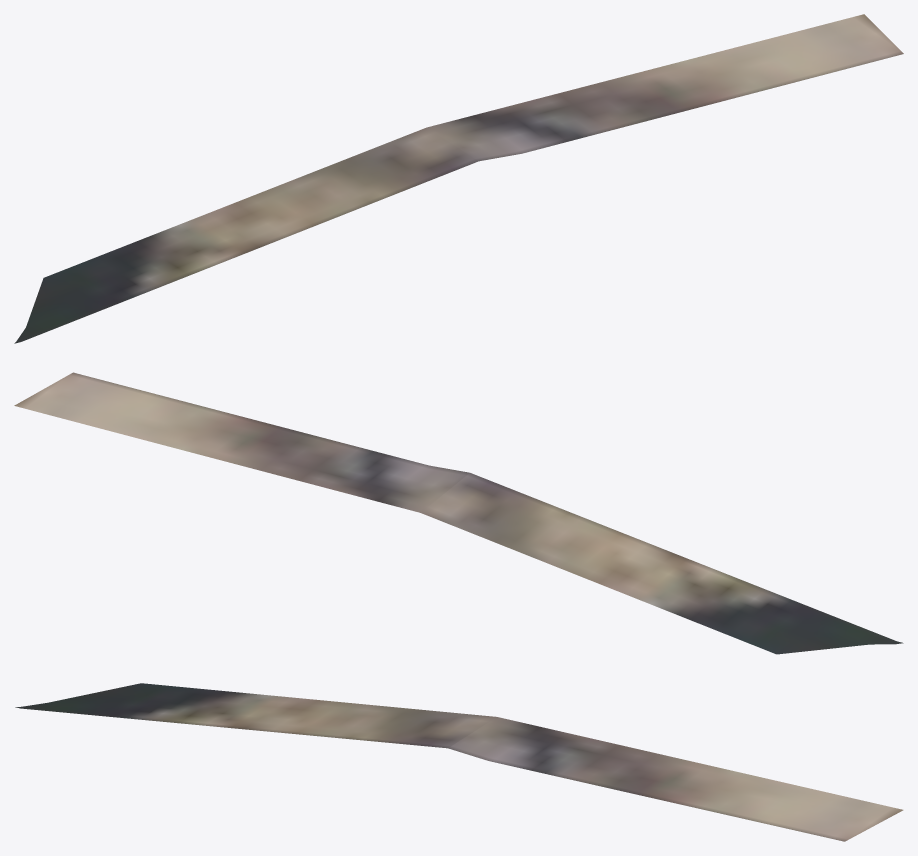
The model's file is CM_Terrain_24486568_6819589.fbx.
3 renders of one model, top to bottom at view 1: azimuth 30°, elevation 25°; view 2: azimuth 150°, elevation 25°; view 3: azimuth 330°, elevation 25°, orthographic. The views are drawn at different scales.
Parts seen in each view (by area): view 1: CM_Terrain_24486568_6819589_LOD0; view 2: CM_Terrain_24486568_6819589_LOD0; view 3: CM_Terrain_24486568_6819589_LOD0.
Boxes of the visible parts, x1,y1,x2,y2 form: CM_Terrain_24486568_6819589_LOD0: (14,14,903,343); CM_Terrain_24486568_6819589_LOD0: (14,372,903,654); CM_Terrain_24486568_6819589_LOD0: (15,683,903,841).
Size of what is drawn, in the model's own units: 12.88 by 0.9994 by 1.32.
